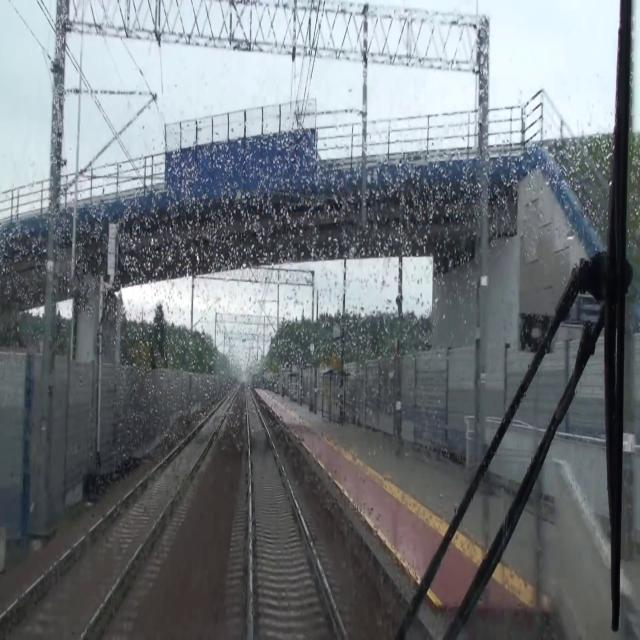rail-track: (0, 396, 231, 639), (248, 393, 333, 639)
